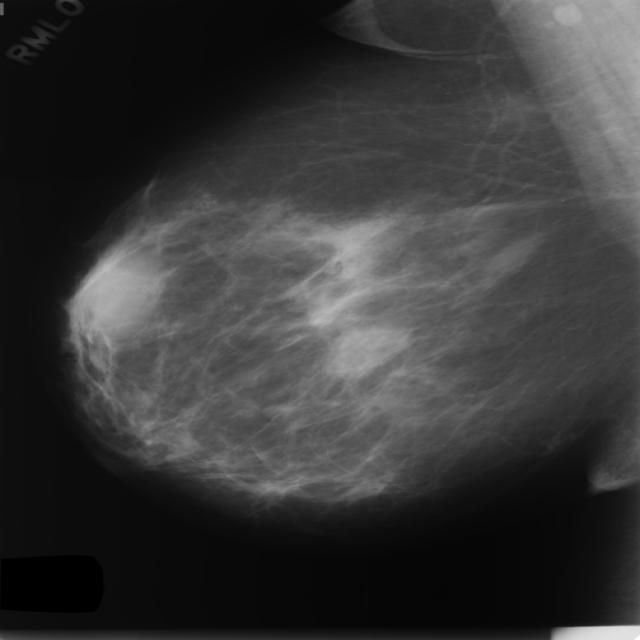tumour: (67, 254, 162, 332)
